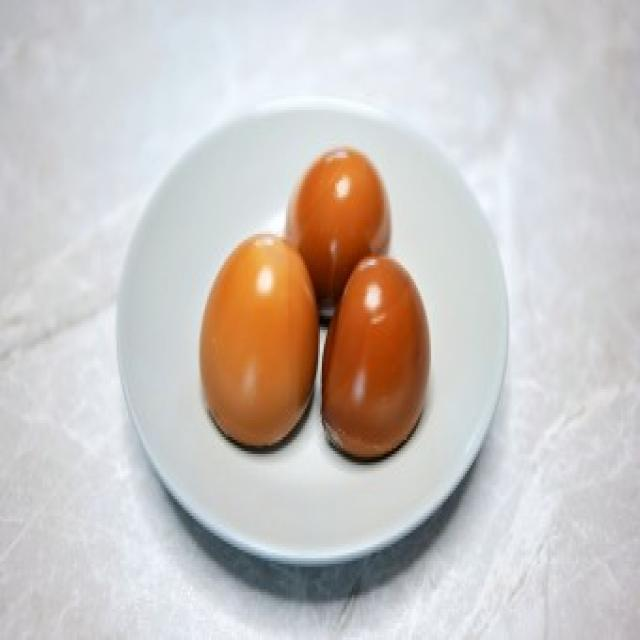eggs: (199, 233, 323, 459), (321, 242, 434, 467), (282, 141, 397, 303)
